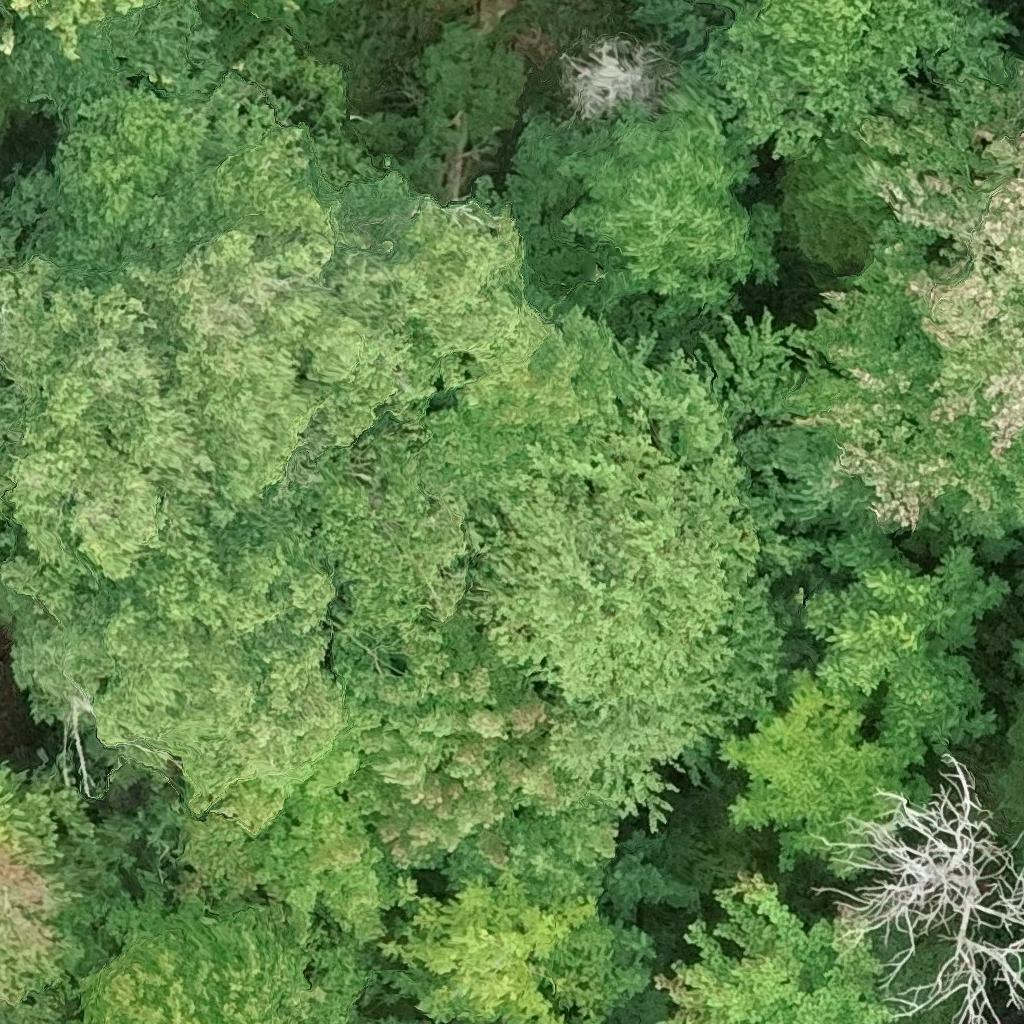crown: (0, 60, 532, 600), (15, 431, 495, 813), (467, 348, 810, 838), (697, 54, 1023, 540), (175, 606, 637, 937), (503, 61, 785, 351), (626, 0, 1015, 158), (827, 752, 1023, 1023), (423, 297, 642, 497), (373, 871, 652, 1023), (74, 895, 371, 1023), (0, 762, 143, 1023), (657, 872, 887, 1023), (557, 34, 679, 123), (11, 0, 160, 60), (999, 714, 1023, 821), (568, 1018, 584, 1023)
